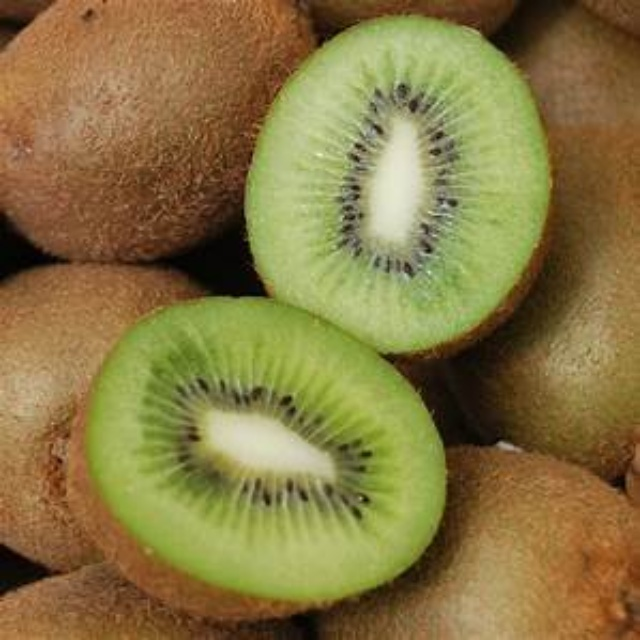kiwi: (76, 304, 429, 605), (243, 22, 544, 358), (12, 3, 322, 270), (359, 423, 635, 635)
